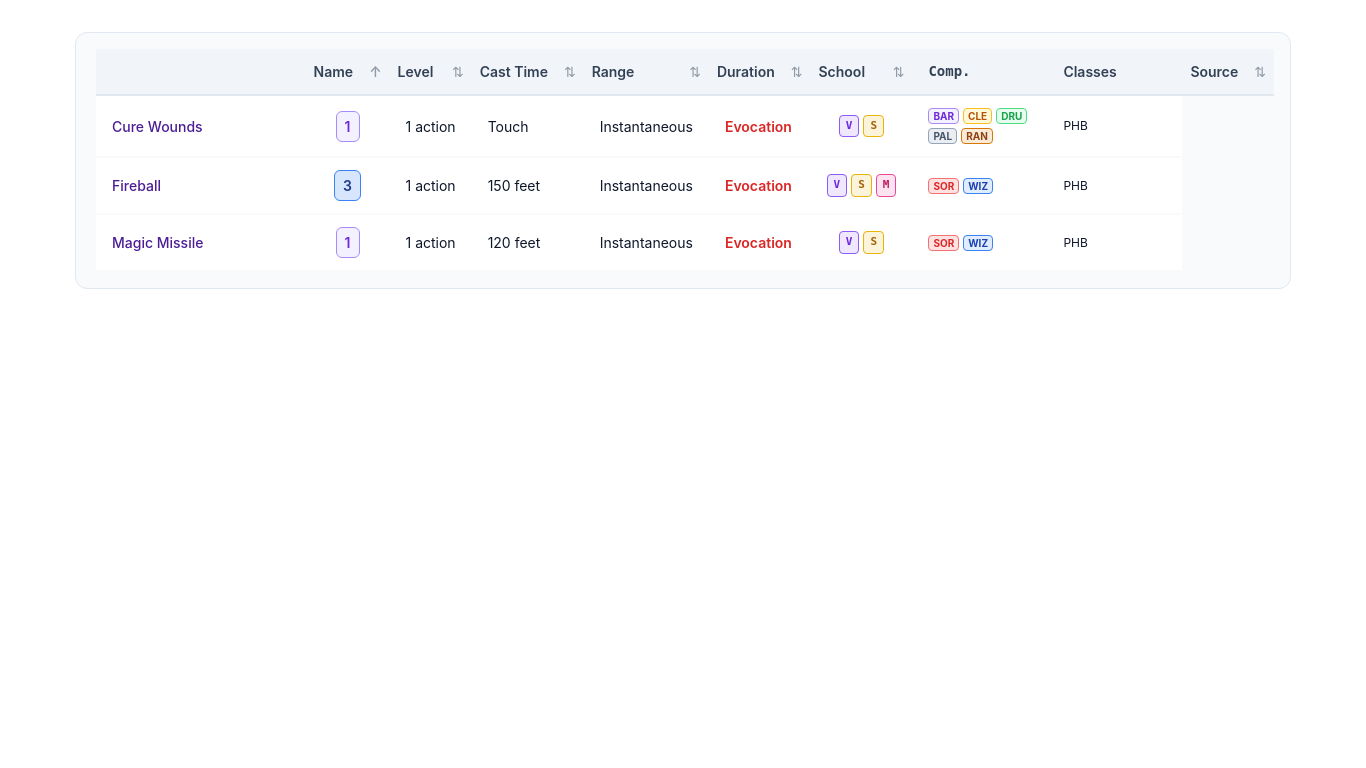
Test: SpellTable › should open modal with spell details on row click
The width and height of the screenshot is (1366, 768).
Click the text "Fireball" at (684,186), box [94,157,1274,214]
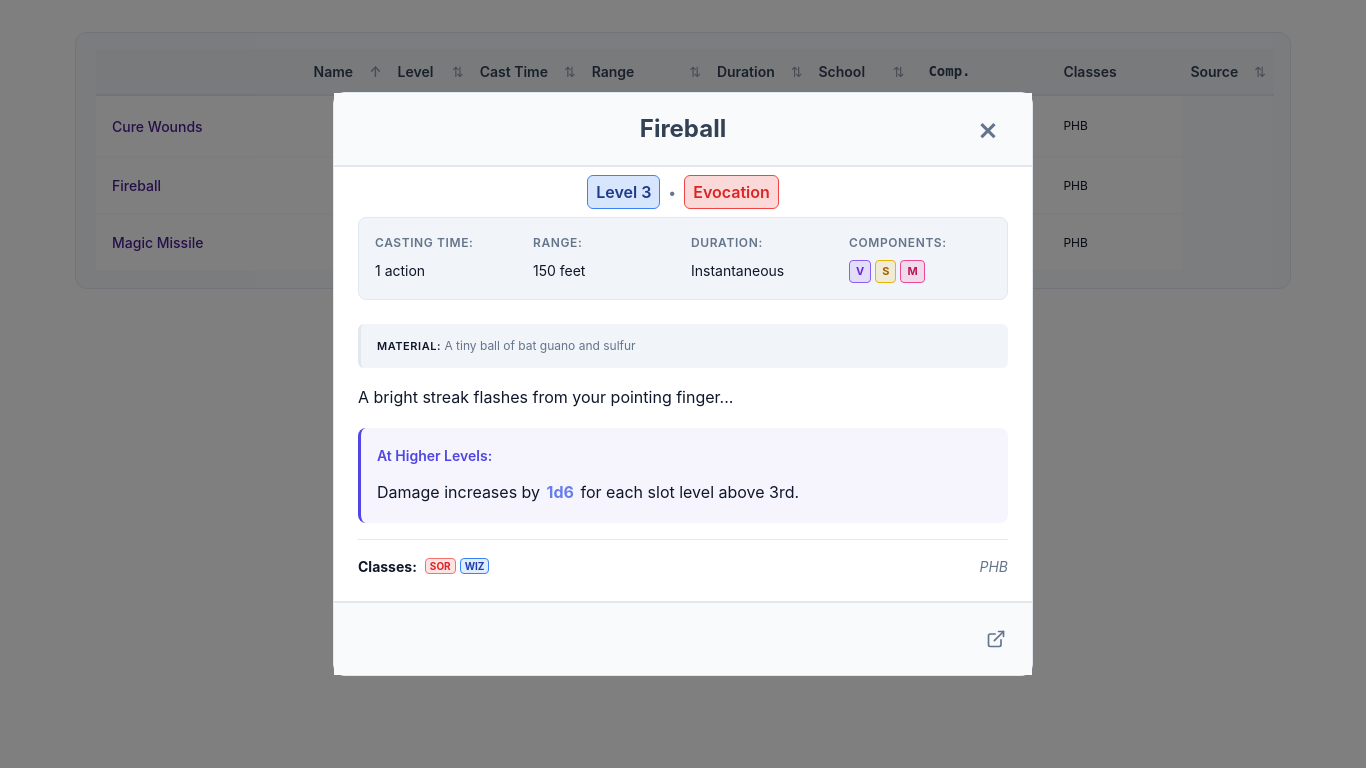
Expected: the text "A bright streak flashes from your pointing finger..." is shown, [358,387,733,407]
Expected: the dialog "Fireball" is shown, [333,92,1033,676]
